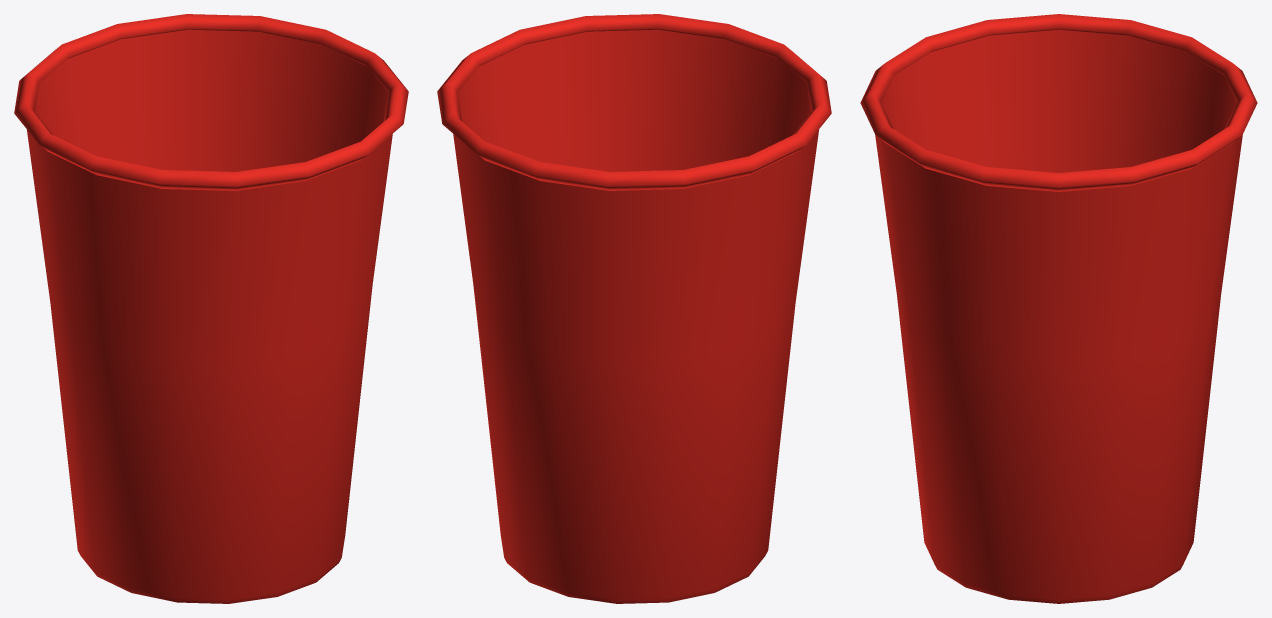
The model's file is red_solo_cup.glb.
3 renders of one model, left to right at view 1: azimuth 30°, elevation 25°; view 2: azimuth 150°, elevation 25°; view 3: azimuth 270°, elevation 25°, orthographic.
Parts seen in each view (by area): view 1: Cup_Body, Cup_Rim; view 2: Cup_Body, Cup_Rim; view 3: Cup_Body, Cup_Rim.
Part boxes in pixels (x1,y1,x2,y2): Cup_Body: (27,29,392,603); Cup_Rim: (14,14,408,190); Cup_Body: (453,29,818,603); Cup_Rim: (437,14,831,190); Cup_Body: (875,29,1242,603); Cup_Rim: (860,14,1257,191).
Bounding box in the file's own units: 0.095 × 0.12 × 0.095.
